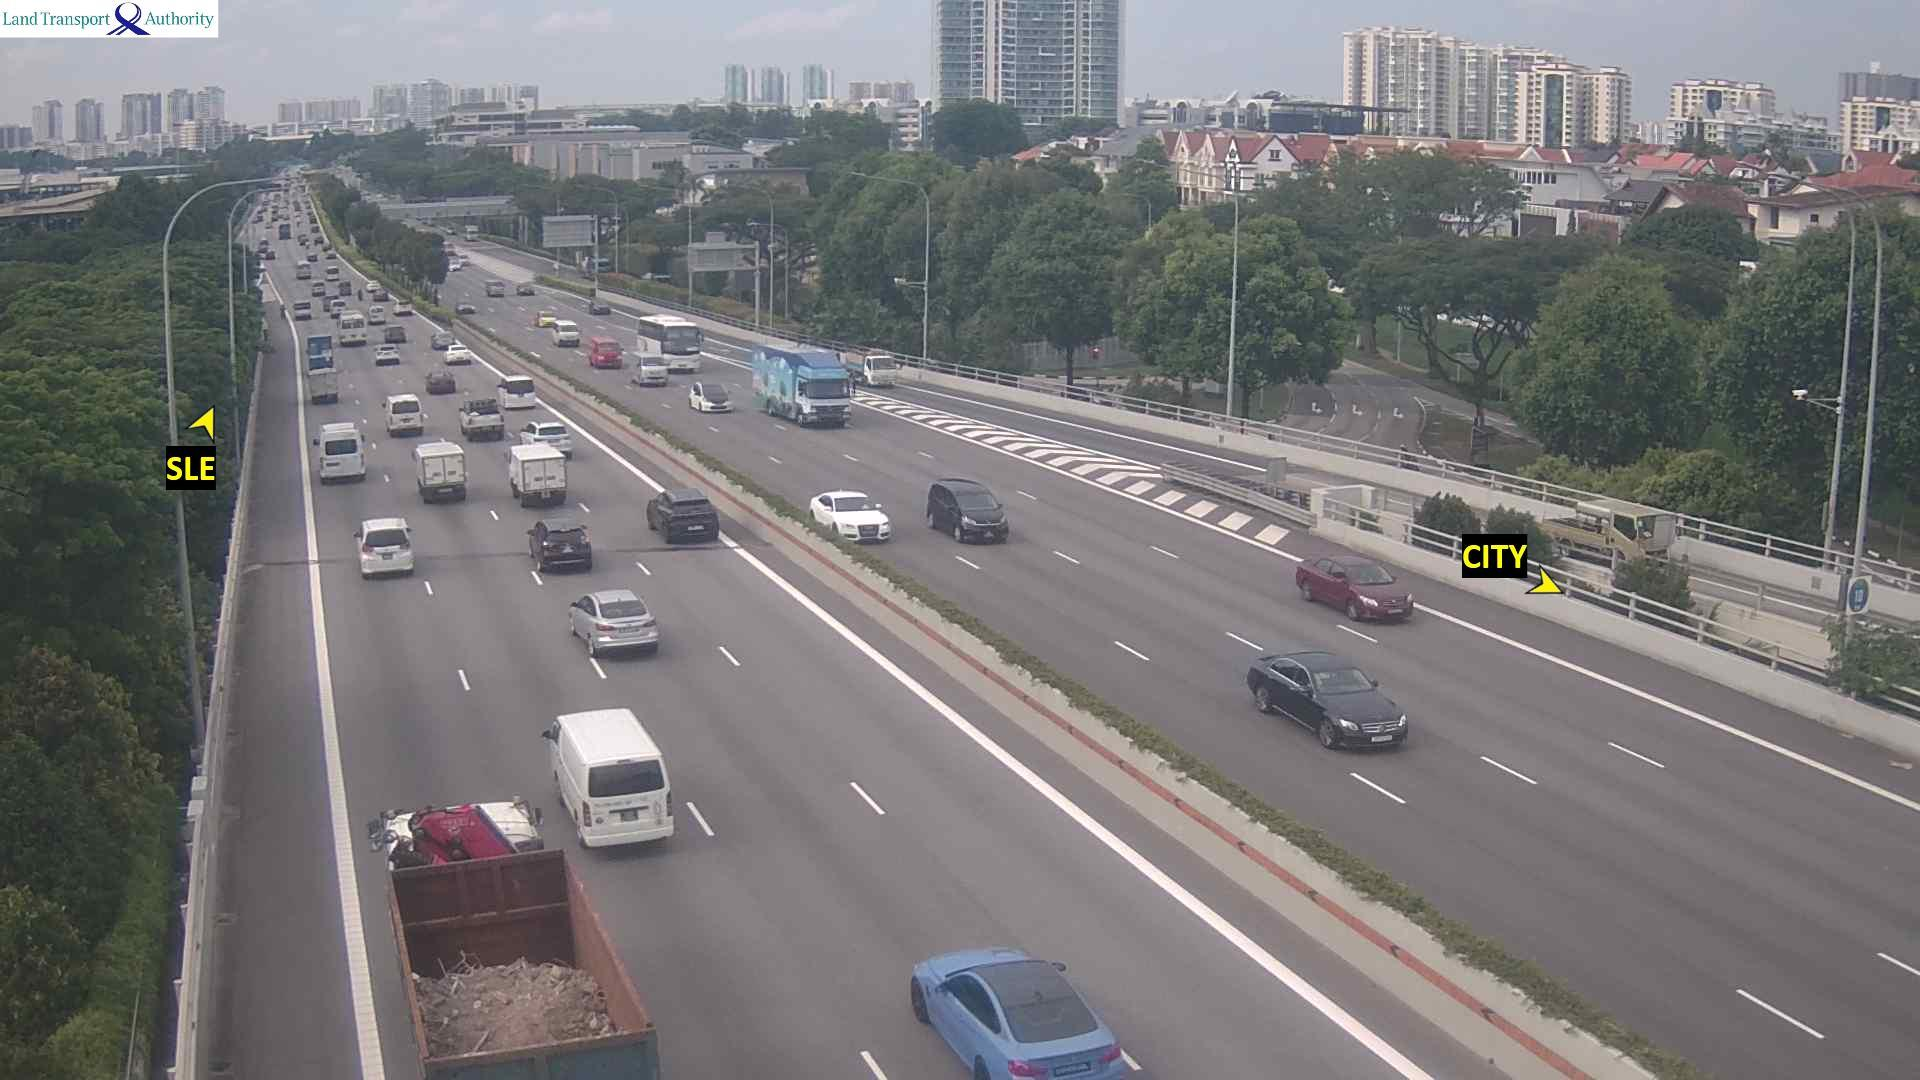bus: (633, 313, 702, 373)
cars: (909, 945, 1124, 1079), (541, 705, 674, 849), (1245, 649, 1407, 750), (1294, 553, 1414, 622), (567, 587, 659, 658), (924, 477, 1009, 545), (808, 489, 891, 543), (646, 487, 717, 545), (353, 516, 414, 578), (526, 520, 592, 572), (518, 419, 574, 460), (382, 393, 429, 436), (458, 397, 504, 440), (688, 378, 733, 411), (495, 373, 535, 409), (587, 336, 622, 368), (305, 334, 334, 371), (336, 311, 367, 345), (634, 357, 669, 385), (425, 367, 455, 393), (551, 319, 580, 345), (373, 343, 400, 367), (444, 342, 471, 364), (381, 324, 410, 344), (390, 295, 415, 318), (587, 295, 613, 316), (367, 303, 388, 328), (430, 328, 454, 349), (291, 298, 313, 320), (330, 299, 349, 320), (322, 294, 343, 314), (534, 307, 555, 326), (484, 277, 505, 295), (295, 260, 314, 281), (336, 280, 355, 298), (310, 280, 327, 298), (371, 287, 390, 303), (324, 264, 342, 281), (444, 256, 462, 273), (455, 301, 476, 314), (516, 281, 534, 295), (456, 252, 472, 268), (365, 278, 382, 293), (264, 247, 278, 261), (306, 252, 319, 264), (326, 248, 338, 261)
motorcycle: (357, 286, 367, 302)
trucks: (367, 795, 669, 1080), (1534, 483, 1706, 582), (750, 344, 853, 427), (506, 440, 567, 506), (411, 439, 467, 502), (313, 421, 367, 483), (305, 363, 342, 407), (862, 352, 899, 386), (576, 255, 613, 280), (640, 272, 675, 293), (463, 224, 481, 243), (277, 223, 293, 240)
